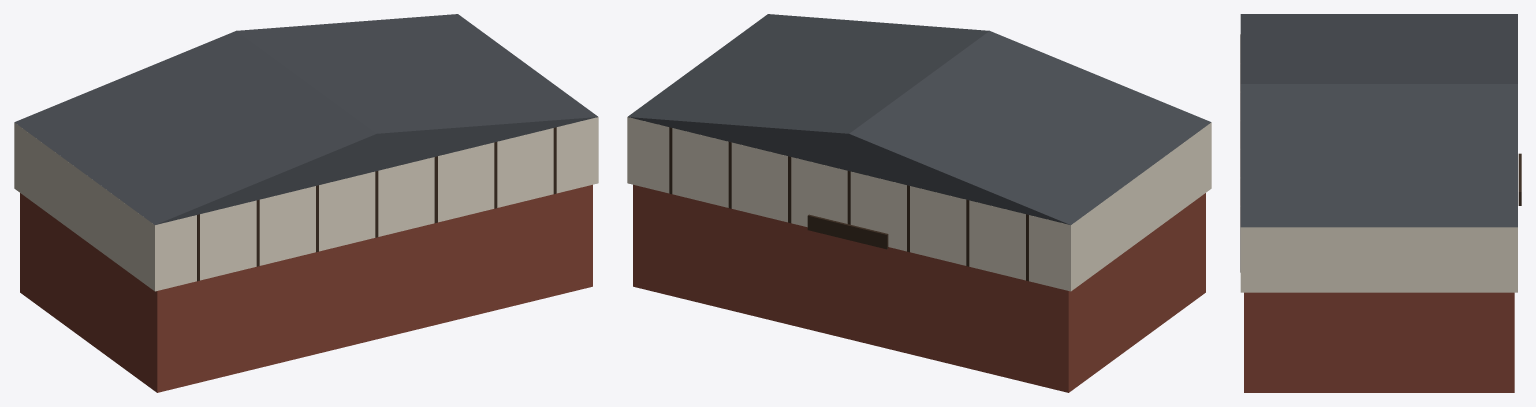
Rendered from b02-boathouse-uk-victorian.glb.
3 views of the same model, side by side, from view 1: azimuth 30°, elevation 25°; view 2: azimuth 150°, elevation 25°; view 3: azimuth 270°, elevation 25° (orthographic).
Parts seen in each view (by area): view 1: part4, part0, part1, part2; view 2: part4, part0, part1, part2, part3; view 3: part4, part0, part1.
Boxes of the visible parts, <box> form: part4: <box>14,14,597,224</box>; part0: <box>20,184,592,392</box>; part1: <box>14,117,598,291</box>; part2: <box>197,127,556,281</box>; part4: <box>628,14,1211,224</box>; part0: <box>633,184,1205,392</box>; part1: <box>627,117,1211,291</box>; part2: <box>669,127,1028,281</box>; part3: <box>807,214,888,249</box>; part4: <box>1240,14,1517,227</box>; part0: <box>1244,292,1514,392</box>; part1: <box>1240,227,1517,292</box>.
Bounding box in the file's own units: 22400 × 10000 × 12470.
